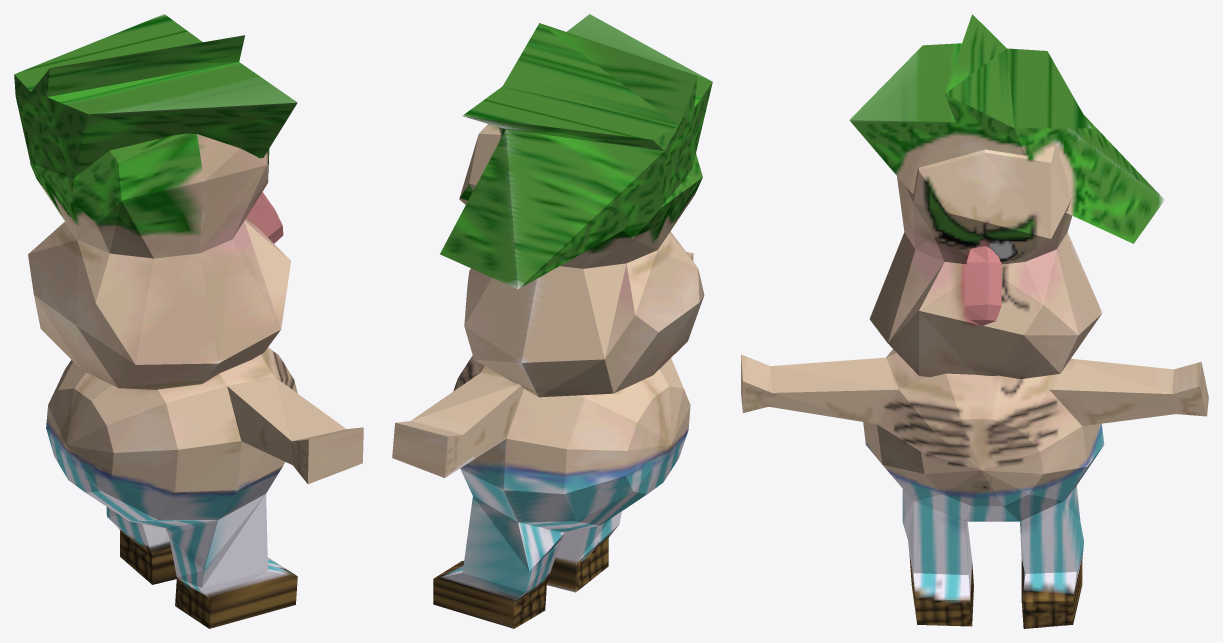
The model's file is Buttface2.glb.
3 renders of one model, left to right at view 1: azimuth 30°, elevation 25°; view 2: azimuth 150°, elevation 25°; view 3: azimuth 270°, elevation 25°, orthographic. The views are drawn at different scales.
Visible parts, largest first — view 1: Buttface2; view 2: Buttface2; view 3: Buttface2.
Boxes of the visible parts, x1,y1,x2,y2 form: Buttface2: [14, 14, 363, 628]; Buttface2: [392, 14, 712, 628]; Buttface2: [741, 14, 1208, 628].
Bounding box in the file's own units: 33.81 × 77.3 × 63.35.
1 material, 1 textured.
